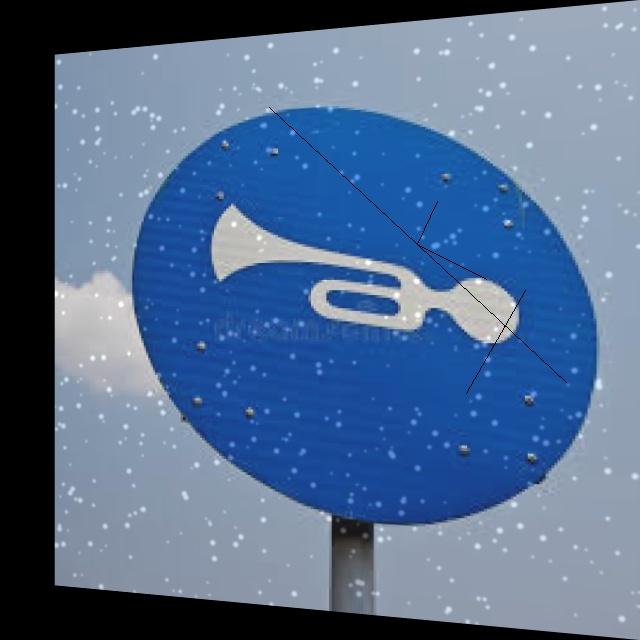Compulsory_Sound_Horn: (139, 87, 590, 525)
